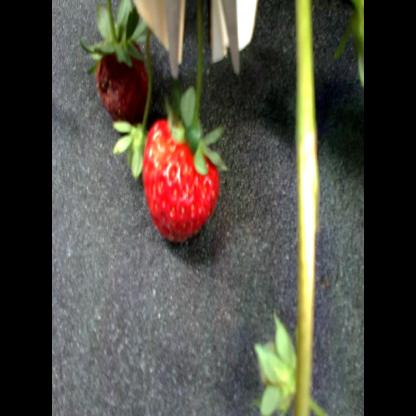ripe: (142, 114, 220, 245), (92, 46, 154, 120)
